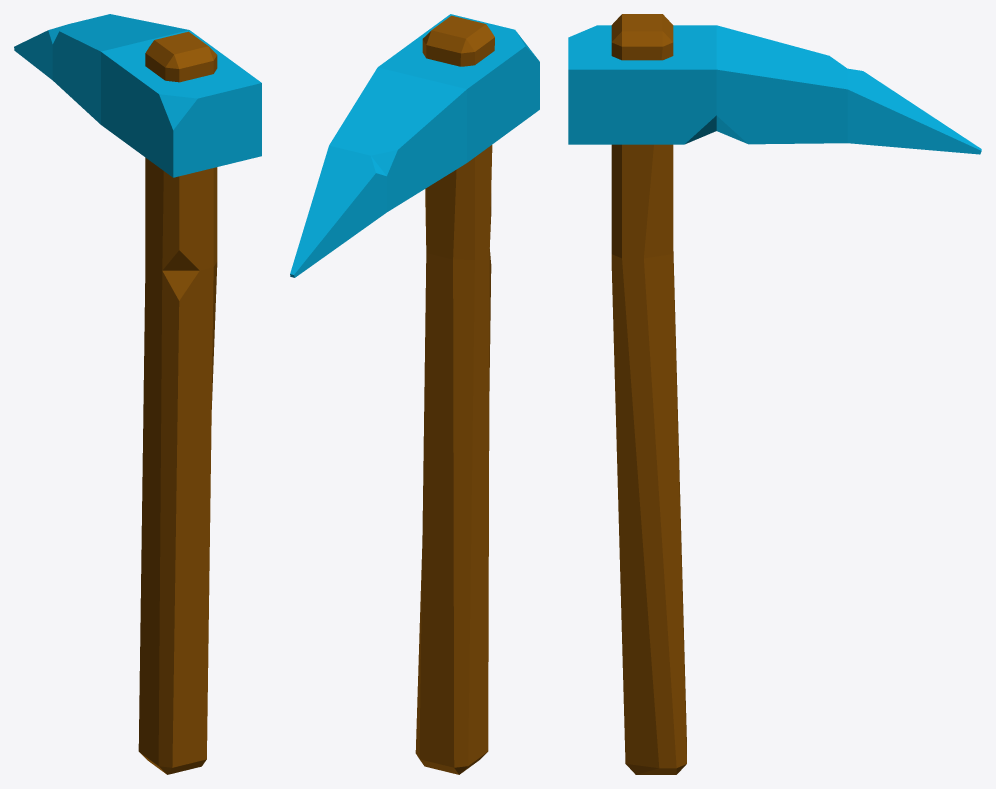
The model's file is hoe.fbx.
The picture shows the model from 3 angles, left to right: view 1: azimuth 30°, elevation 25°; view 2: azimuth 150°, elevation 25°; view 3: azimuth 270°, elevation 25°; orthographic projection. The views are drawn at different scales.
Visible parts, largest first — view 1: Cube, Cube.001; view 2: Cube, Cube.001; view 3: Cube, Cube.001.
Part boxes in pixels (left/top/right/bottom): Cube: left=138, top=31, right=217, bottom=774; Cube.001: left=14, top=14, right=261, bottom=177; Cube: left=415, top=15, right=494, bottom=774; Cube.001: left=290, top=14, right=539, bottom=277; Cube: left=611, top=14, right=686, bottom=774; Cube.001: left=568, top=25, right=981, bottom=154.
Bounding box in the file's own units: 39.86 × 311 × 157.
